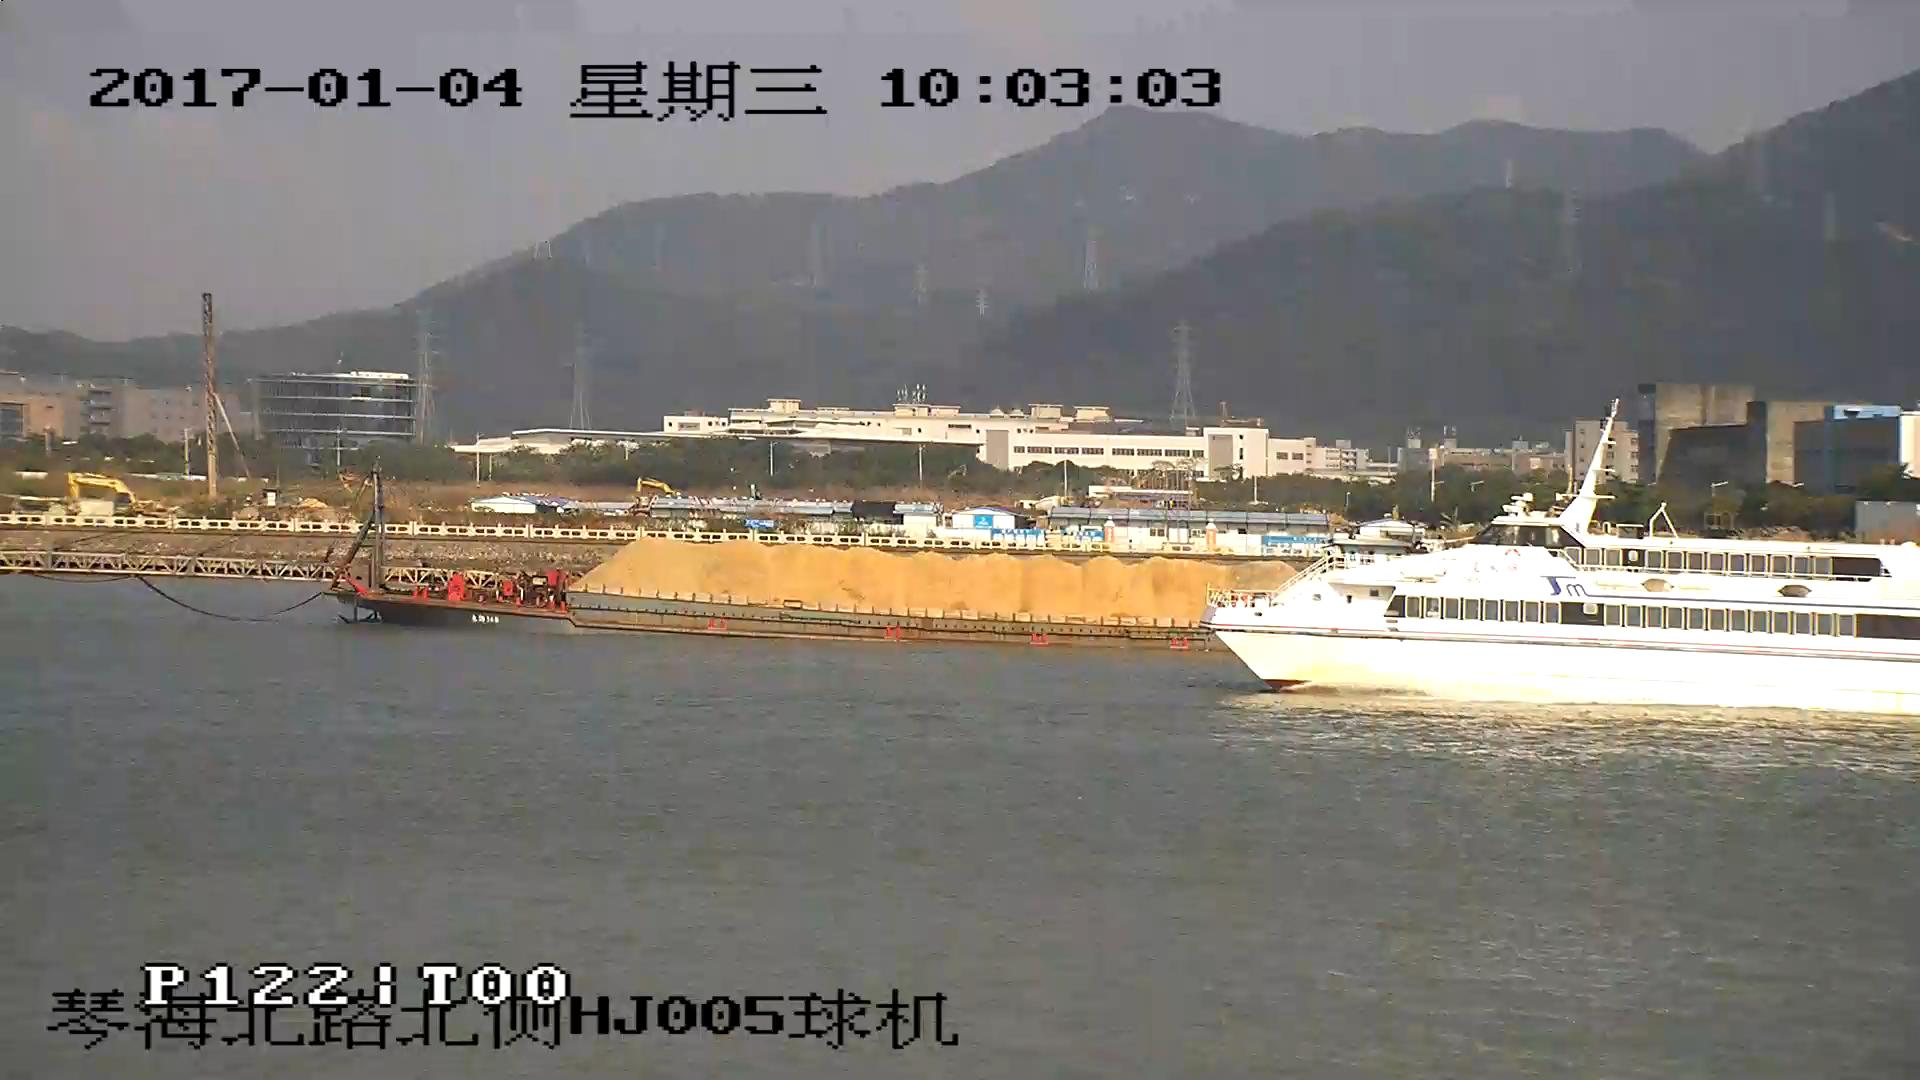ore carrier: (1, 477, 1205, 648)
passenger ship: (1209, 407, 1920, 710)
